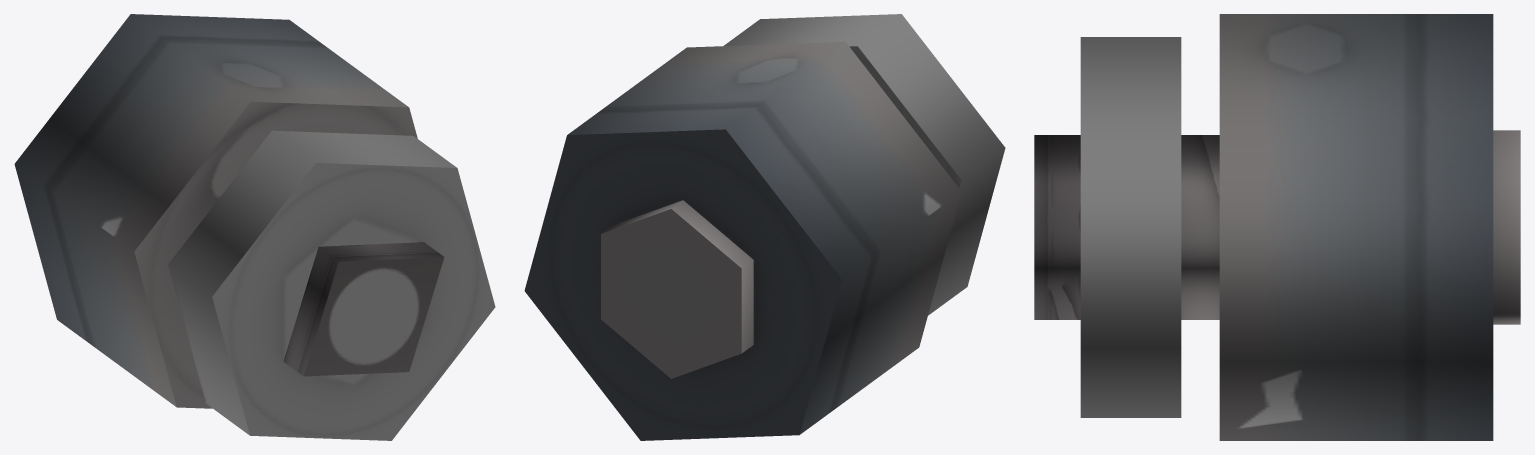
The model's file is obj_interactive_suspensionsport_01_on_lod1.fbx.
3 views of the same model, side by side, from view 1: azimuth 30°, elevation 25°; view 2: azimuth 150°, elevation 25°; view 3: azimuth 270°, elevation 25° (orthographic). The views are drawn at different scales.
Parts seen in each view (by area): view 1: obj_interactive_suspensionsport_01_off1_lod2; view 2: obj_interactive_suspensionsport_01_off1_lod2; view 3: obj_interactive_suspensionsport_01_off1_lod2.
Part boxes in pixels (x1=…): obj_interactive_suspensionsport_01_off1_lod2: x1=14, y1=14, x2=495, y2=440; obj_interactive_suspensionsport_01_off1_lod2: x1=524, y1=14, x2=1005, y2=440; obj_interactive_suspensionsport_01_off1_lod2: x1=1034, y1=14, x2=1520, y2=440.
Bounding box in the file's own units: 1.02 × 1.02 × 1.18.
Materials: 1 (1 with a texture image).
